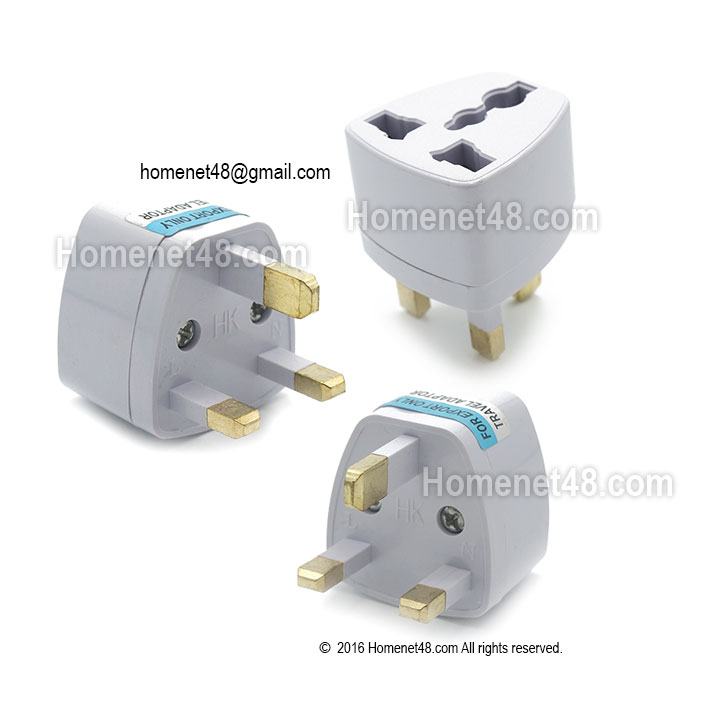Three_eye_plug: (46, 190, 349, 445), (339, 60, 585, 364), (282, 369, 564, 631)
